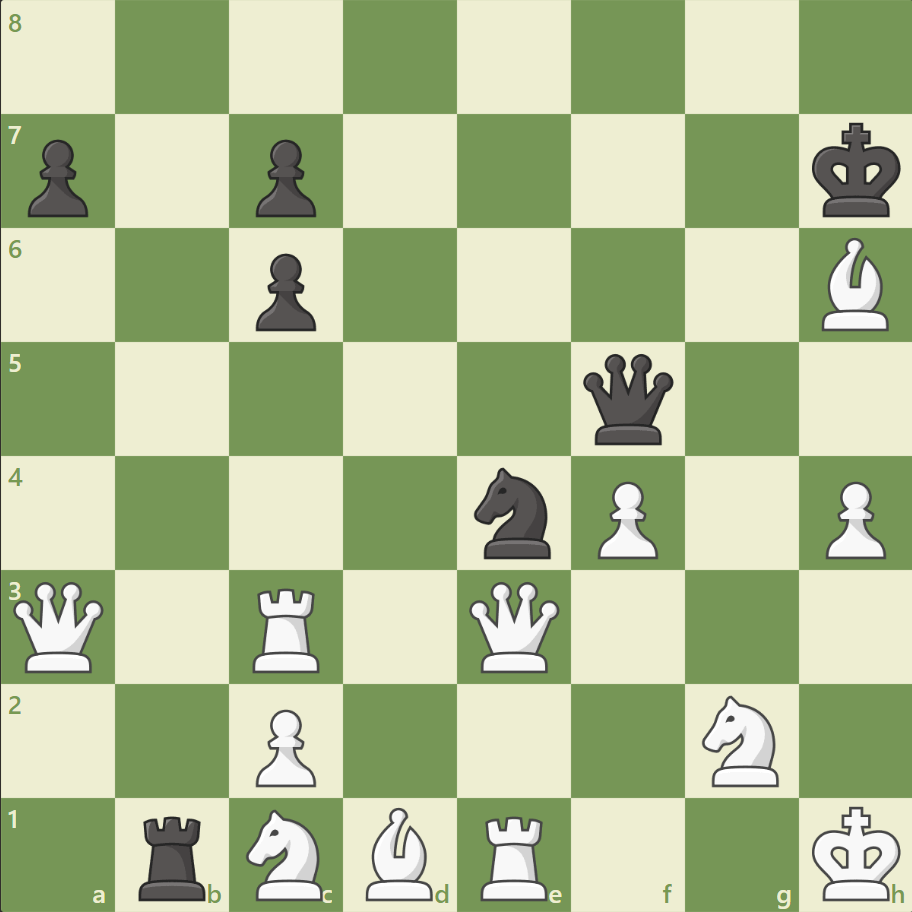B: (812, 233, 896, 336), (358, 801, 442, 904)
K: (806, 798, 906, 906)
N: (692, 688, 789, 791), (238, 802, 335, 904)
P: (247, 700, 322, 791), (588, 473, 662, 564), (815, 473, 889, 564)
Q: (10, 576, 109, 676), (464, 576, 563, 676)
R: (473, 806, 556, 904), (246, 579, 329, 676)
k: (806, 117, 906, 225)
n: (465, 461, 562, 564)
p: (20, 132, 95, 223), (247, 132, 322, 223), (247, 246, 322, 337)
q: (578, 349, 677, 449)
r: (133, 806, 215, 904)
